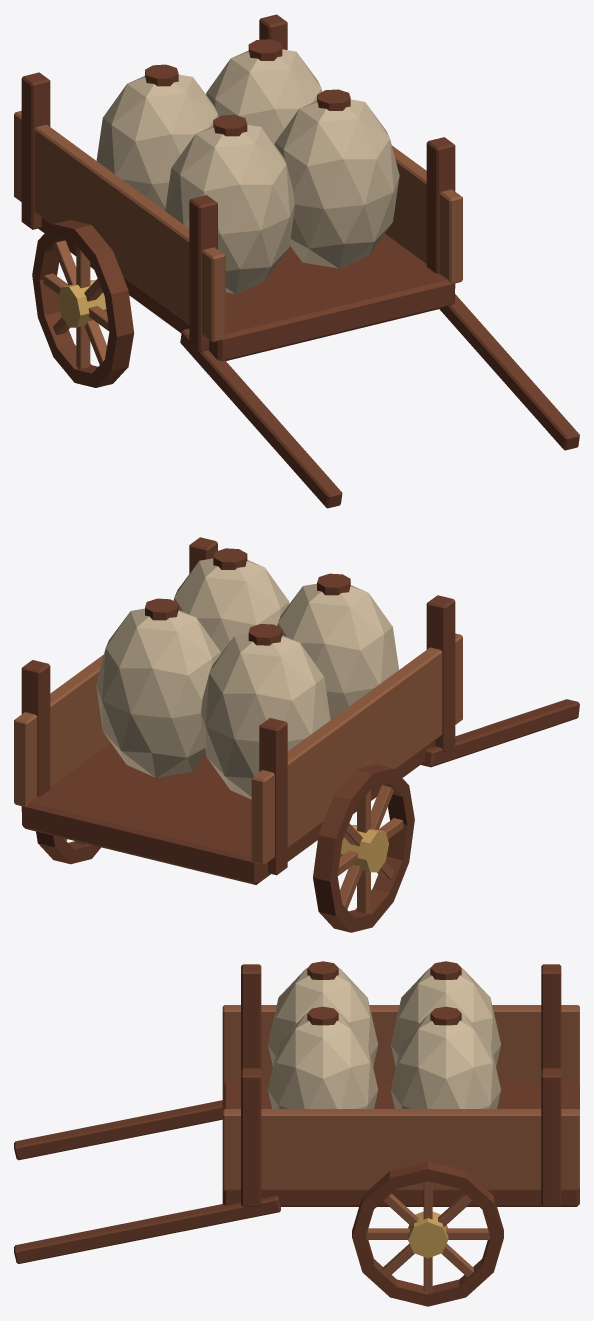
File: handcart.glb
3 renders of one model, top to bottom at view 1: azimuth 30°, elevation 25°; view 2: azimuth 150°, elevation 25°; view 3: azimuth 270°, elevation 25°, orthographic. The views are drawn at different scales.
Visible parts, largest first — view 1: Bed, Side, Cargo, Cargo_Sack, Cargo_Sack_002, Rim, Cargo_Sack_003, Side_001, Handle, Handle_001, Stake_001, Stake (+6 smaller); view 2: Bed, Side, Cargo_Sack_003, Cargo_Sack_002, Cargo_Sack, Rim, Cargo, Side_001, Handle, Stake, Stake_001, Stake_003 (+9 smaller); view 3: Side_001, Side, Cargo, Cargo_Sack_003, Rim_001, Bed, Handle_001, Cargo_Sack, Cargo_Sack_002, Handle, Stake_002, Stake_003 (+10 smaller).
Boxes of the visible parts, <box> form: Bed: <box>38,217,454,360</box>; Side: <box>14,110,225,342</box>; Cargo: <box>274,89,399,268</box>; Cargo_Sack: <box>165,124,294,293</box>; Cargo_Sack_002: <box>96,74,218,210</box>; Rim: <box>32,220,134,387</box>; Cargo_Sack_003: <box>206,49,322,144</box>; Side_001: <box>385,145,462,283</box>; Handle: <box>180,328,342,508</box>; Handle_001: <box>439,294,579,450</box>; Stake_001: <box>21,72,50,229</box>; Stake: <box>189,195,217,352</box>; Bed: <box>22,740,435,884</box>; Side: <box>251,633,462,865</box>; Cargo_Sack_003: <box>96,608,220,777</box>; Cargo_Sack_002: <box>201,634,330,799</box>; Cargo_Sack: <box>277,583,398,719</box>; Rim: <box>313,764,414,932</box>; Cargo: <box>173,548,289,653</box>; Side_001: <box>14,654,110,806</box>; Handle: <box>421,699,579,767</box>; Stake: <box>426,595,455,752</box>; Stake_001: <box>259,718,287,875</box>; Stake_003: <box>21,660,50,811</box>; Side_001: <box>222,1109,579,1190</box>; Side: <box>222,1005,579,1085</box>; Cargo: <box>268,1006,378,1108</box>; Cargo_Sack_003: <box>391,1013,500,1108</box>; Rim_001: <box>352,1161,503,1306</box>; Bed: <box>222,1083,579,1206</box>; Handle_001: <box>14,1196,280,1263</box>; Cargo_Sack: <box>268,968,378,1066</box>; Cargo_Sack_002: <box>391,968,500,1066</box>; Handle: <box>14,1100,222,1160</box>; Stake_002: <box>241,1068,261,1206</box>; Stake_003: <box>541,1068,561,1206</box>.
Size of the model in its own units: 1.43 by 1.24 by 2.53.
